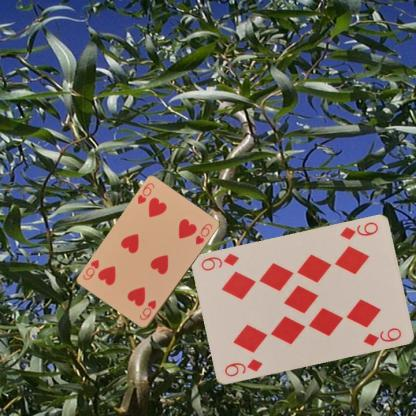6h: (134, 180, 156, 206), (137, 297, 158, 322)
9d: (337, 219, 379, 242), (222, 356, 263, 378)
